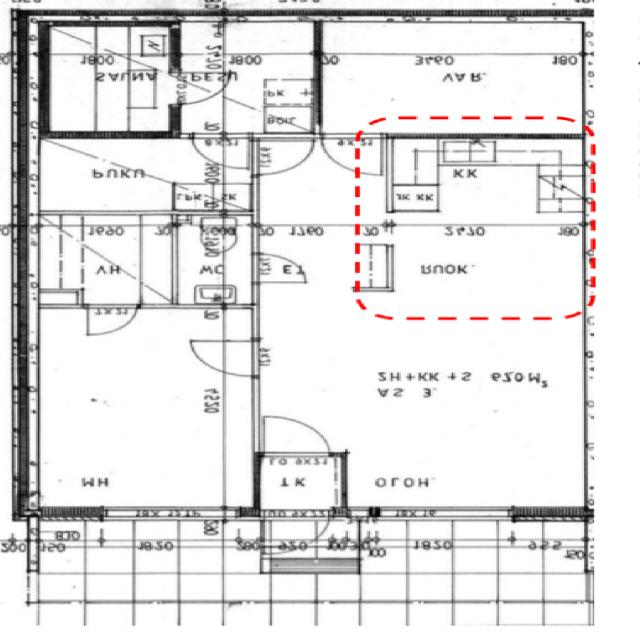door: (264, 507, 328, 560), (265, 414, 329, 456), (322, 134, 382, 174), (193, 340, 259, 376), (251, 141, 318, 175), (194, 133, 248, 171), (169, 72, 233, 103), (89, 304, 137, 338), (252, 253, 306, 281)
